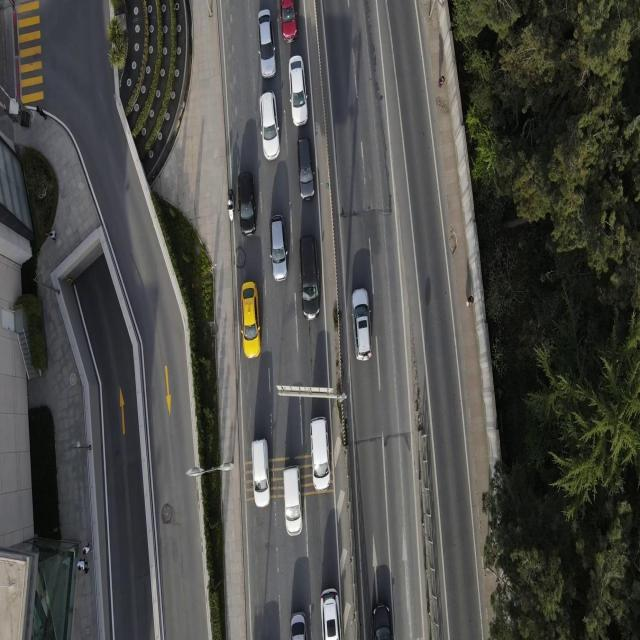p3rson: (82, 540, 93, 558), (36, 104, 48, 119), (77, 556, 88, 570), (438, 75, 445, 89), (468, 294, 474, 308)
